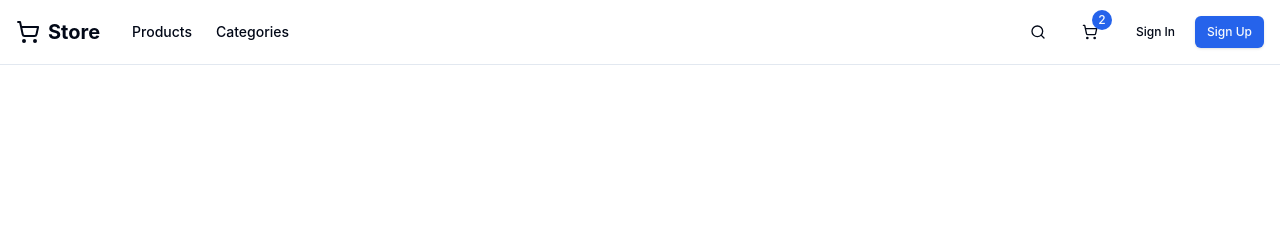
Test: Navigation - Search Autocomplete › should filter and show search results when typing
Click the button named "Search products" at (1038, 32), box [1020,14,1056,50]
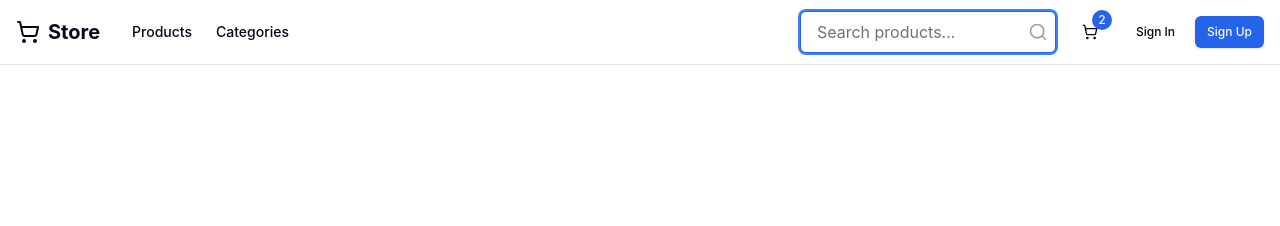
Type "wireless" into the field with test id "search-input" at (928, 32), box [800,11,1056,53]
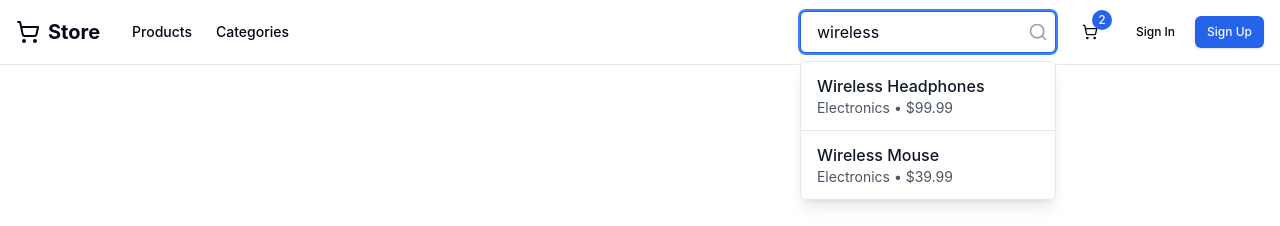
Result: the element with test id "search-results" is shown at [800,61,1056,200]
Result: the text "Wireless Headphones" is shown at [817,76,984,96]
Result: the text "Wireless Mouse" is shown at [817,145,939,165]
